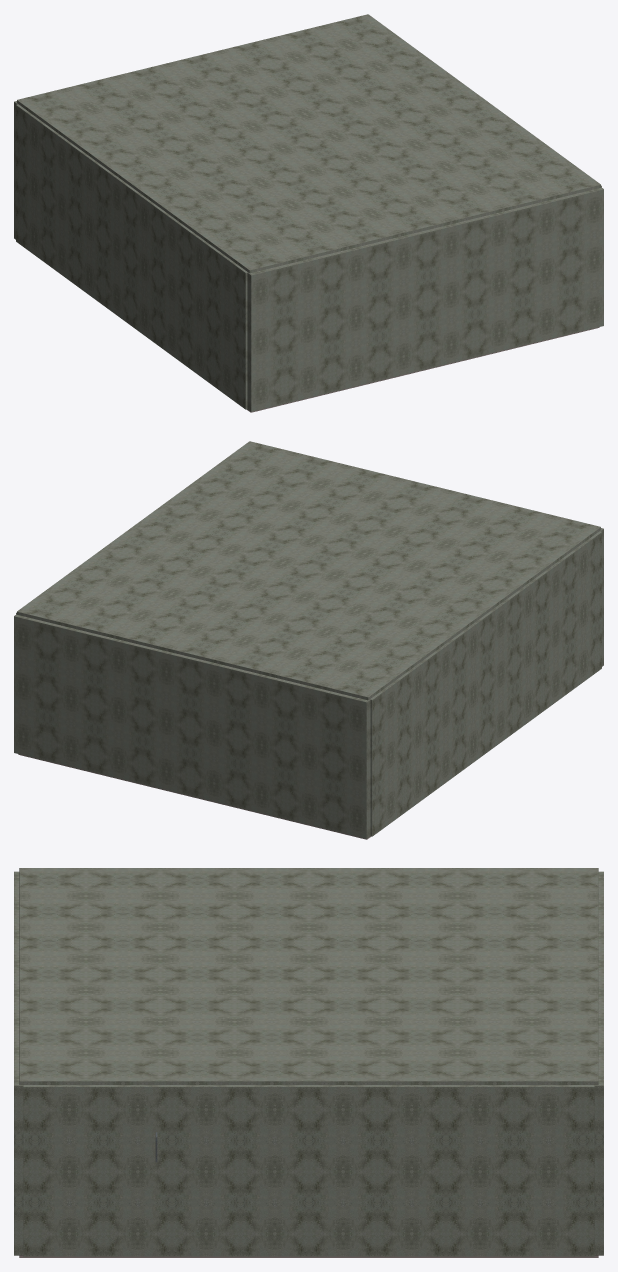
The model's file is case3-fire-scene.glb.
3 views of the same model, one above another, from view 1: azimuth 30°, elevation 25°; view 2: azimuth 150°, elevation 25°; view 3: azimuth 270°, elevation 25° (orthographic). The views are drawn at different scales.
Visible parts, largest first — view 1: ENV_WALL_AGED, ENV_CEILING_SMOKE_STAINED; view 2: ENV_WALL_AGED, ENV_CEILING_SMOKE_STAINED; view 3: ENV_CEILING_SMOKE_STAINED, ENV_WALL_AGED, ENV_WET_REFLECTIVE_FLOOR.
Part boxes in pixels (bbox=[...]): ENV_WALL_AGED: bbox=[14, 101, 603, 411]; ENV_CEILING_SMOKE_STAINED: bbox=[17, 14, 600, 273]; ENV_WALL_AGED: bbox=[14, 528, 603, 838]; ENV_CEILING_SMOKE_STAINED: bbox=[17, 441, 600, 700]; ENV_CEILING_SMOKE_STAINED: bbox=[19, 868, 598, 1084]; ENV_WALL_AGED: bbox=[14, 871, 603, 1256]; ENV_WET_REFLECTIVE_FLOOR: bbox=[19, 1255, 598, 1257].
Bounding box in the file's own units: 13.37 × 5.01 × 15.08.
23 materials, 8 textured.
